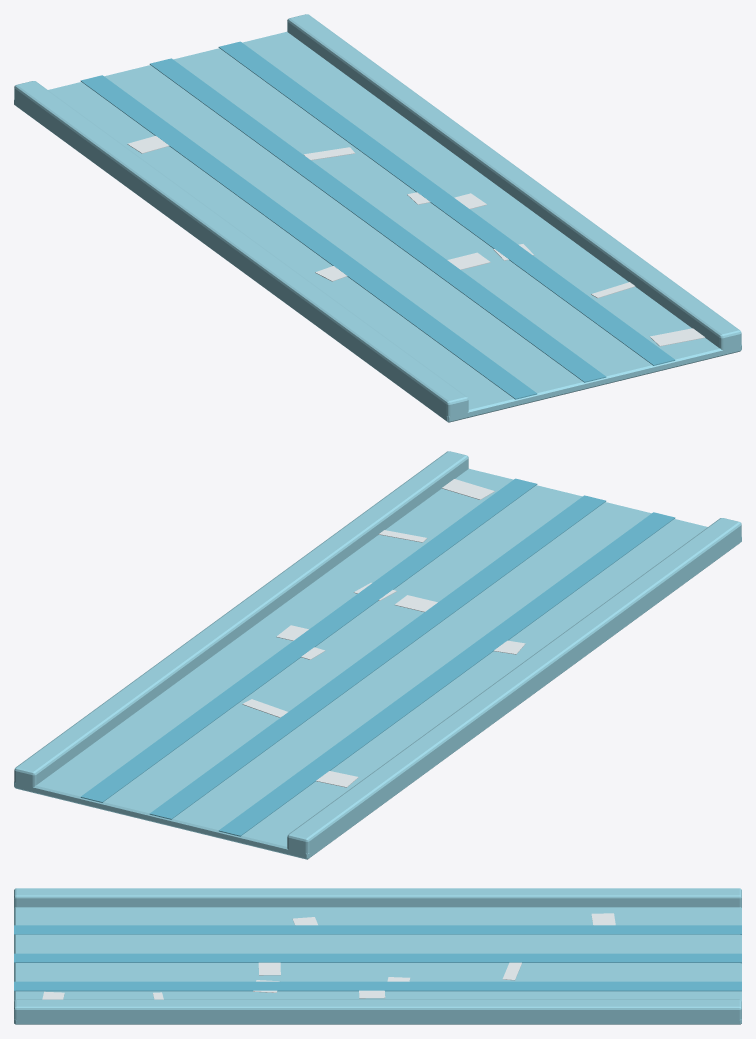
File: hd_rd_slide.gltf
The picture shows the model from 3 angles, top to bottom: view 1: azimuth 30°, elevation 25°; view 2: azimuth 150°, elevation 25°; view 3: azimuth 270°, elevation 25°; orthographic projection. The views are drawn at different scales.
Parts seen in each view (by area): view 1: chute, berm0, berm1, runnel1, runnel0, runnel2; view 2: chute, berm0, berm1, runnel1, runnel0, runnel2; view 3: chute, berm1, berm0, runnel2, runnel1, runnel0, foam5, foam3, foam0.
Part boxes in pixels (x1,y1,x2,y2): chute: [14, 31, 741, 422]; berm0: [14, 81, 468, 421]; berm1: [287, 14, 741, 354]; runnel1: [149, 58, 606, 382]; runnel0: [80, 75, 537, 399]; runnel2: [218, 41, 675, 365]; chute: [14, 468, 741, 859]; berm0: [287, 518, 741, 858]; berm1: [14, 451, 468, 791]; runnel1: [149, 495, 606, 819]; runnel0: [218, 512, 675, 836]; runnel2: [80, 478, 537, 802]; chute: [14, 907, 741, 1024]; berm1: [14, 999, 741, 1023]; berm0: [14, 888, 741, 907]; runnel2: [14, 981, 741, 991]; runnel1: [14, 953, 741, 963]; runnel0: [14, 925, 741, 934]; foam5: [258, 962, 280, 975]; foam3: [591, 913, 615, 925]; foam0: [502, 962, 521, 980].
Bounding box in the file's own units: 9.4 × 0.64 × 24.
